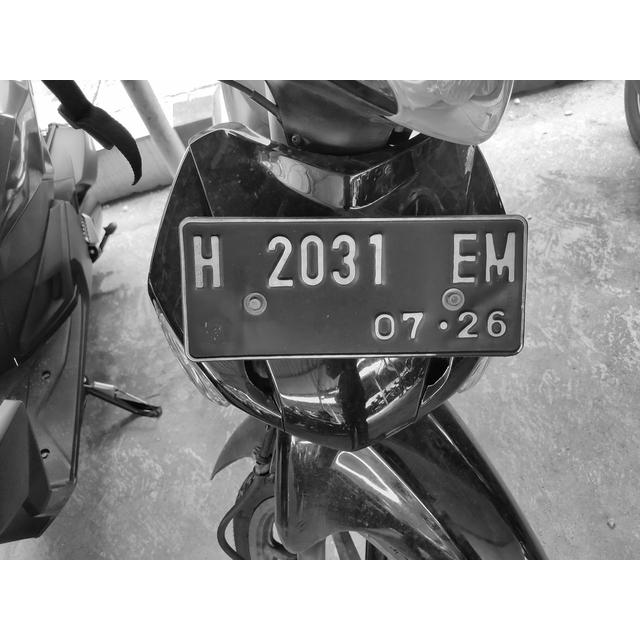license: (185, 228, 519, 345)
